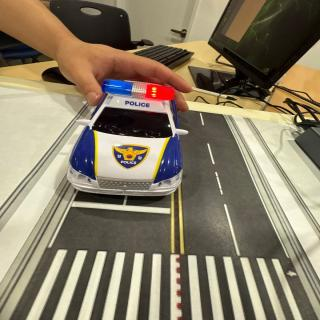Police_car: (67, 80, 188, 196)
